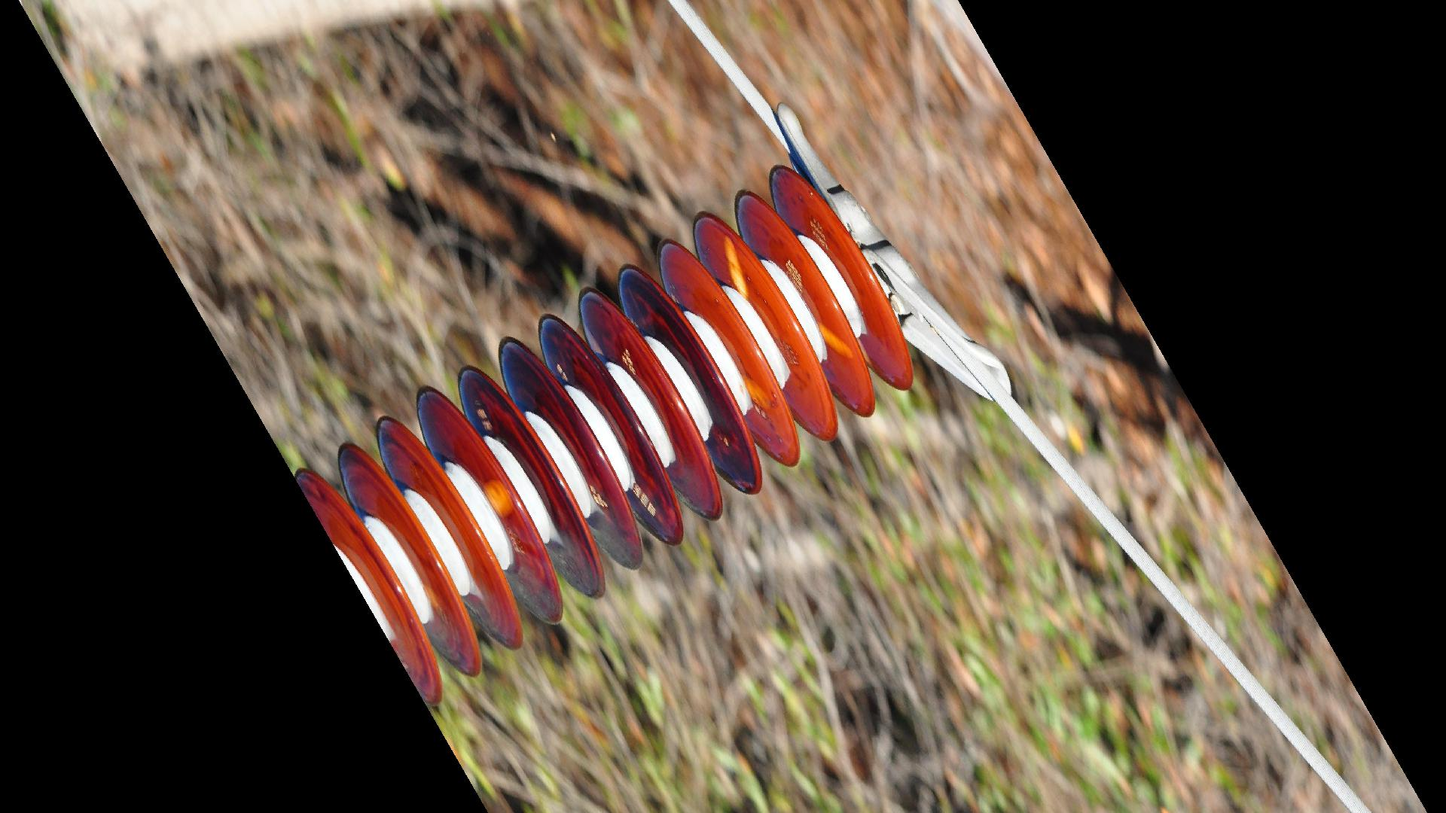insulator: (285, 156, 922, 709)
insulator_flashover: (720, 233, 752, 300), (480, 477, 518, 519), (813, 321, 853, 360)
